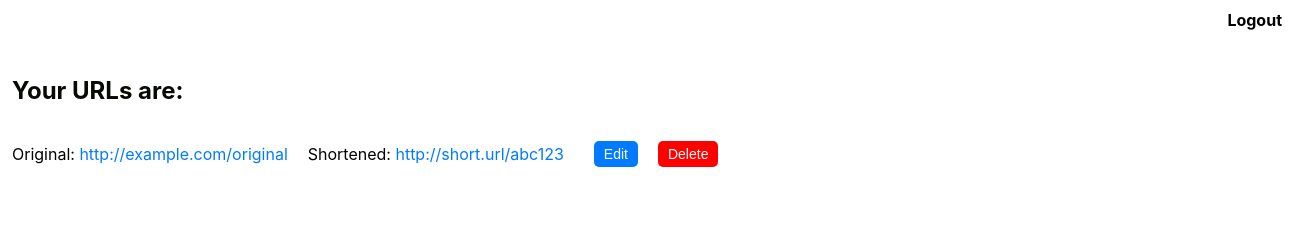
it: test page for MyUrlsPage component › testing cancel edit action
Expected: the link "http://example.com/original" is shown, [79, 144, 288, 164]
# Initiate edit
Click the button "Edit".
click(616, 154)  # box [594, 141, 638, 167]
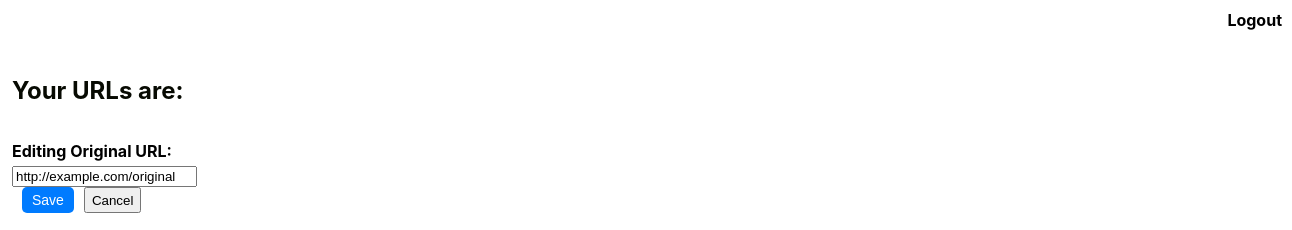
# Make changes in the input field
Replace the text in the field showing "http://example.com/original" with "http://example.com/updated" at {"x": 104, "y": 177}, box [12, 166, 197, 187]
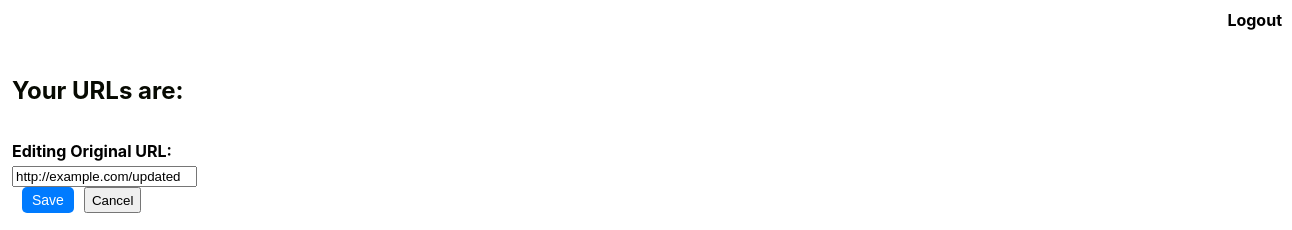
# Click cancel
Click the button "Cancel".
click(113, 200)  # box [84, 187, 141, 213]
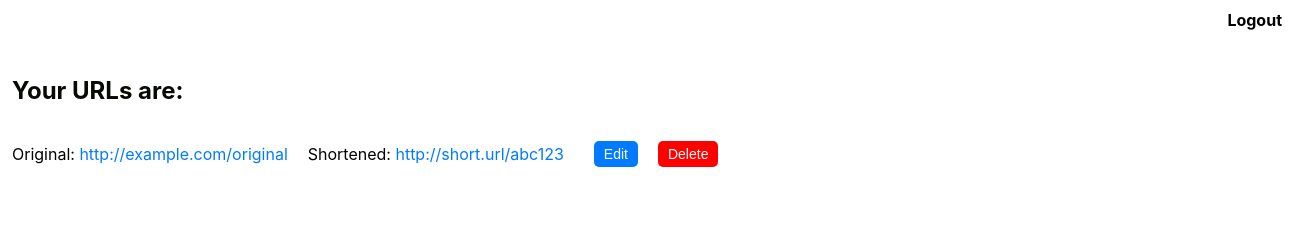
Expected: the field showing "http://example.com/updated" is not shown
Expected: the link "http://example.com/original" is shown, [79, 144, 288, 164]
